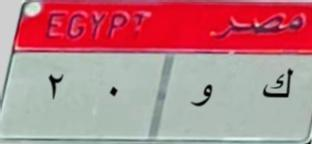0: (102, 80, 131, 107)
2: (40, 69, 70, 105)
kaaf: (261, 67, 296, 105)
waw: (190, 77, 218, 112)
